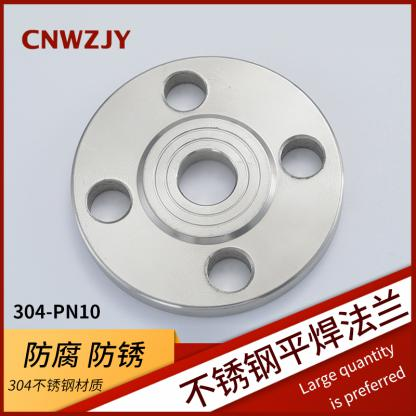FOD: (67, 53, 349, 321)
